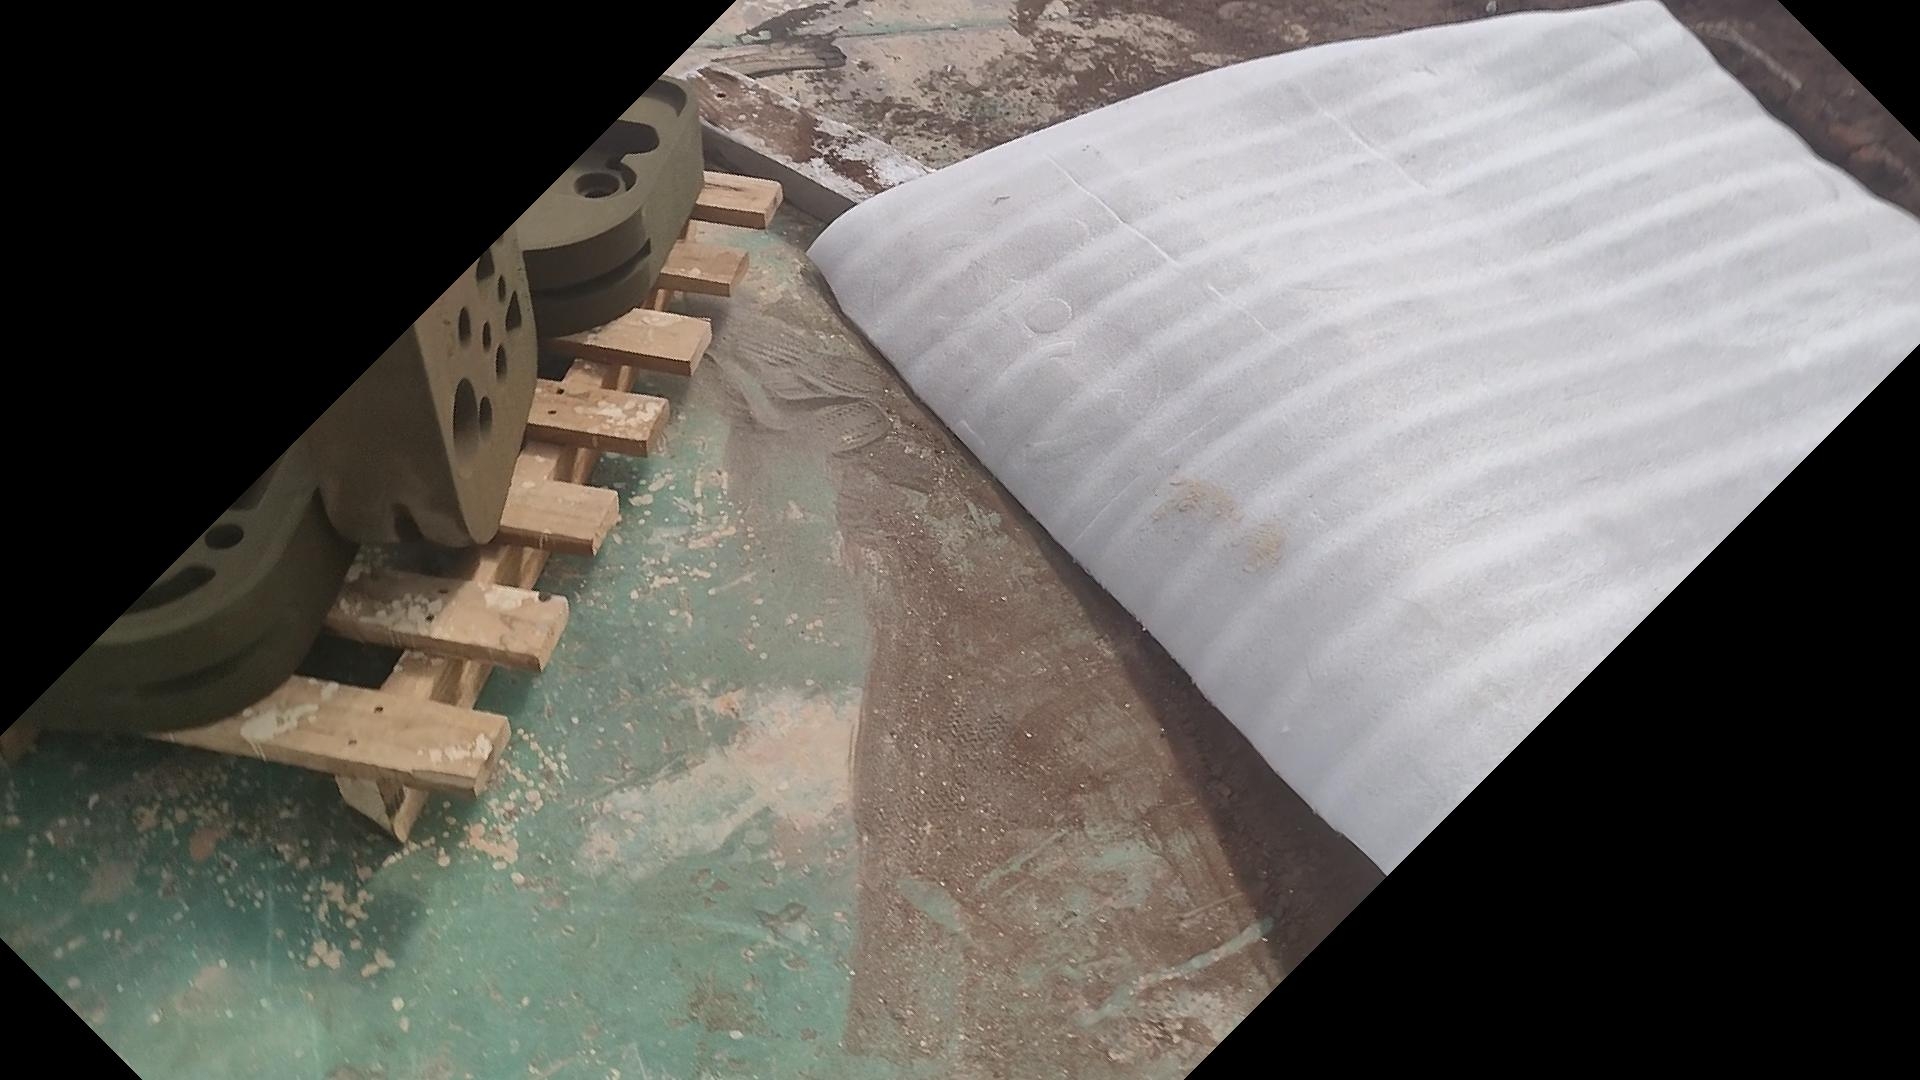pouring hole: (452, 375, 481, 473)
